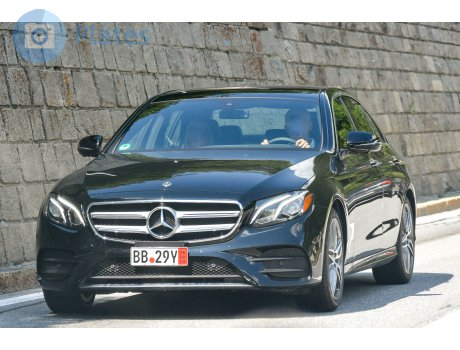License Plates: (129, 245, 179, 265)
